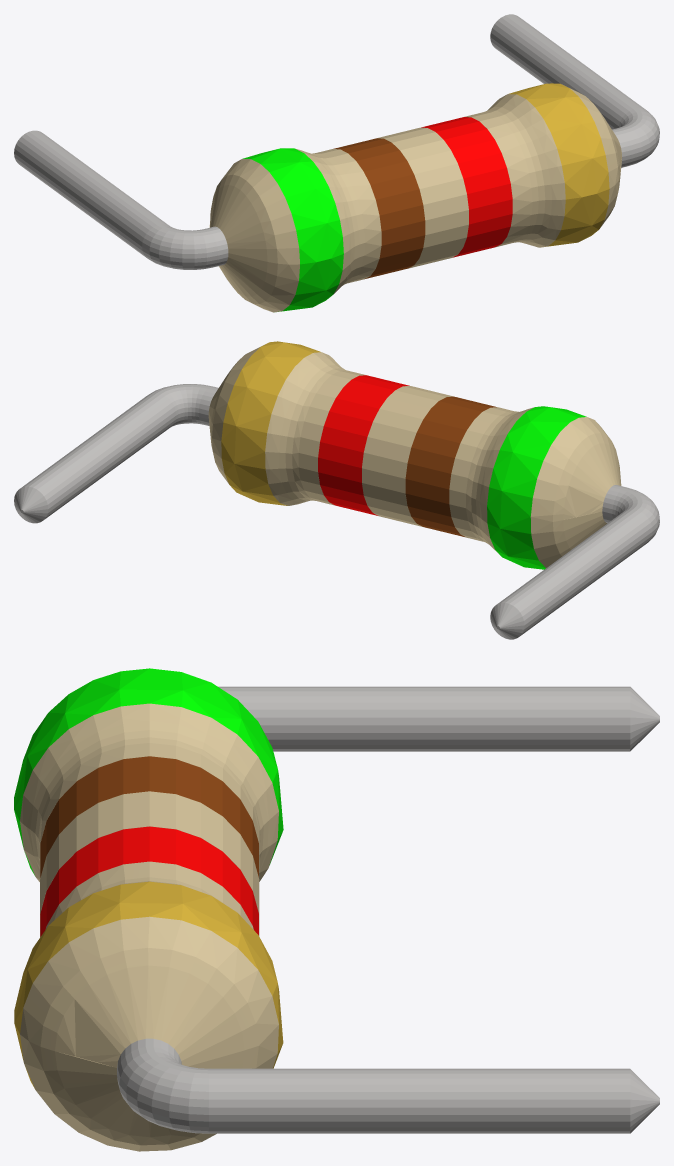
The model's file is Yageo CFR-25 Resistor Axial P7.62mm 5,1 kOhm.obj.
The picture shows the model from 3 angles, top to bottom: view 1: azimuth 30°, elevation 25°; view 2: azimuth 150°, elevation 25°; view 3: azimuth 270°, elevation 25°; orthographic projection. The views are drawn at different scales.
Visible parts, largest first — view 1: Yageo_CFR-25_Resistor_Axial_P7.62mm_5,1_kOhm; view 2: Yageo_CFR-25_Resistor_Axial_P7.62mm_5,1_kOhm; view 3: Yageo_CFR-25_Resistor_Axial_P7.62mm_5,1_kOhm.
Part boxes in pixels (x1,y1,x2,y2): Yageo_CFR-25_Resistor_Axial_P7.62mm_5,1_kOhm: [14, 14, 659, 312]; Yageo_CFR-25_Resistor_Axial_P7.62mm_5,1_kOhm: [14, 341, 659, 639]; Yageo_CFR-25_Resistor_Axial_P7.62mm_5,1_kOhm: [14, 668, 659, 1151].
Size of the model in its own units: 0.0256 by 0.00706 by 0.0171.
